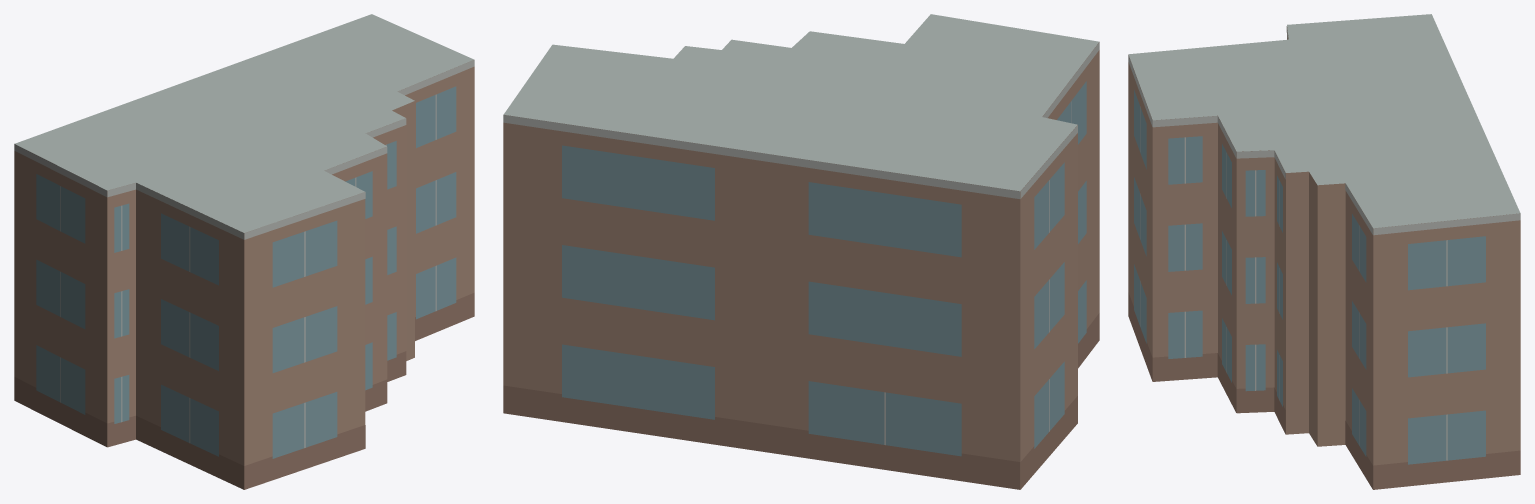
The model's file is survey-upis-32621905.glb.
The picture shows the model from 3 angles, left to right: view 1: azimuth 30°, elevation 25°; view 2: azimuth 150°, elevation 25°; view 3: azimuth 270°, elevation 25°; orthographic projection. The views are drawn at different scales.
Visible parts, largest first — view 1: survey-upis-32621905.tmp; view 2: survey-upis-32621905.tmp; view 3: survey-upis-32621905.tmp.
Part boxes in pixels (bbox=[...]): survey-upis-32621905.tmp: bbox=[14, 14, 474, 489]; survey-upis-32621905.tmp: bbox=[503, 14, 1099, 489]; survey-upis-32621905.tmp: bbox=[1128, 14, 1520, 489].
Bounding box in the file's own units: 16.09 × 9.15 × 12.45.
